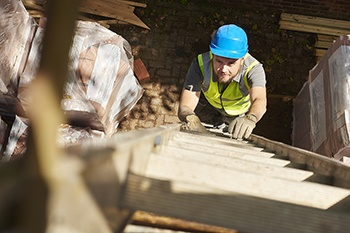blue: (210, 25, 246, 79)
